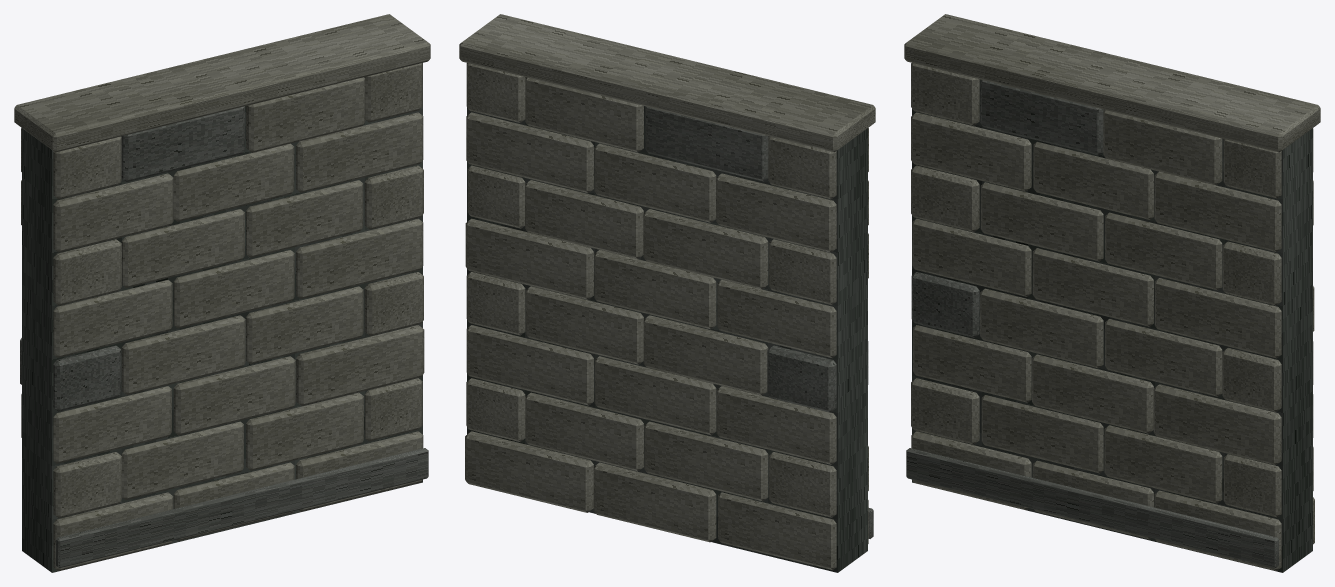
File: parede.glb
The picture shows the model from 3 angles, left to right: view 1: azimuth 30°, elevation 25°; view 2: azimuth 150°, elevation 25°; view 3: azimuth 330°, elevation 25°; orthographic projection.
Visible parts, largest first — view 1: parede_mesh; view 2: parede_mesh; view 3: parede_mesh.
Boxes of the visible parts, x1,y1,x2,y2 form: parede_mesh: (14,14,430,572); parede_mesh: (459,14,875,572); parede_mesh: (904,14,1320,572).
Size of the model in its own units: 2.04 by 2.28 by 0.3975.
Materials: 3 (3 with a texture image).
